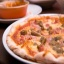pizza: (7, 14, 64, 64)
